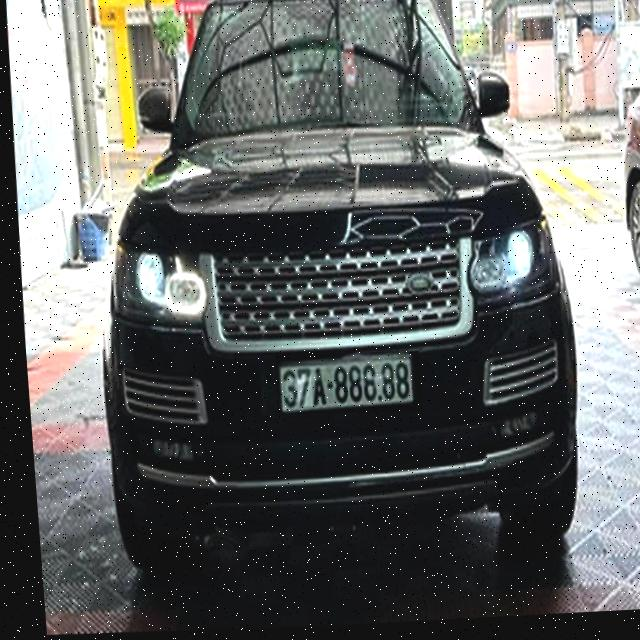car: (70, 0, 595, 610), (465, 0, 640, 131), (602, 51, 640, 320)
plate: (272, 350, 424, 418)
